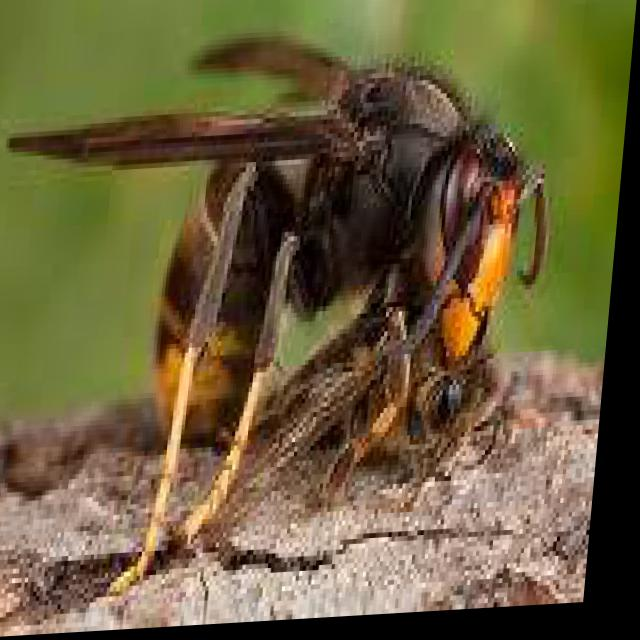Vespa Velutina: (0, 7, 574, 614)
